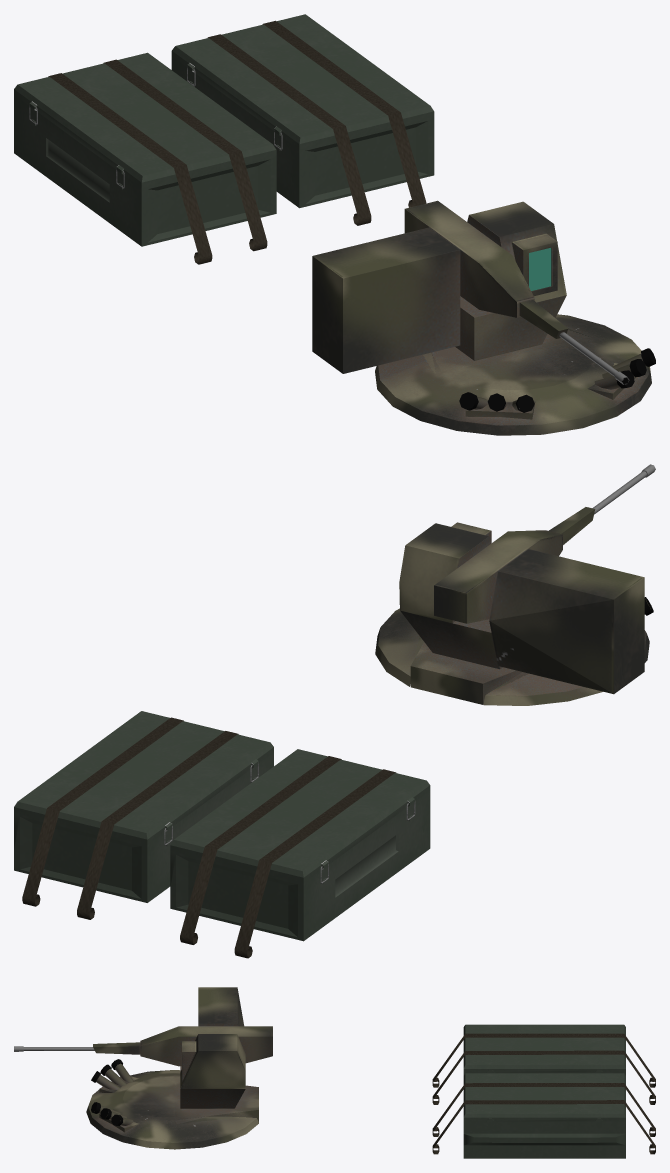
3 views of the same model, one above another, from view 1: azimuth 30°, elevation 25°; view 2: azimuth 150°, elevation 25°; view 3: azimuth 270°, elevation 25° (orthographic). The views are drawn at different scales.
Parts seen in each view (by area): view 1: boxes_LOD0, mg_turret_LOD0, mg_LOD0; view 2: boxes_LOD0, mg_turret_LOD0, mg_LOD0; view 3: boxes_LOD0, mg_turret_LOD0, mg_LOD0.
Part boxes in pixels (box(x1,y1,x2,y2)): boxes_LOD0: box(14, 14, 434, 264); mg_turret_LOD0: box(312, 201, 655, 435); mg_LOD0: box(404, 200, 629, 384); boxes_LOD0: box(14, 711, 430, 958); mg_turret_LOD0: box(375, 522, 653, 705); mg_LOD0: box(434, 464, 655, 623); boxes_LOD0: box(432, 1024, 655, 1158); mg_turret_LOD0: box(86, 987, 258, 1149); mg_LOD0: box(14, 1026, 272, 1066).
Size of what is drawn, in the model's own units: 2.24 by 0.9525 by 6.47.
